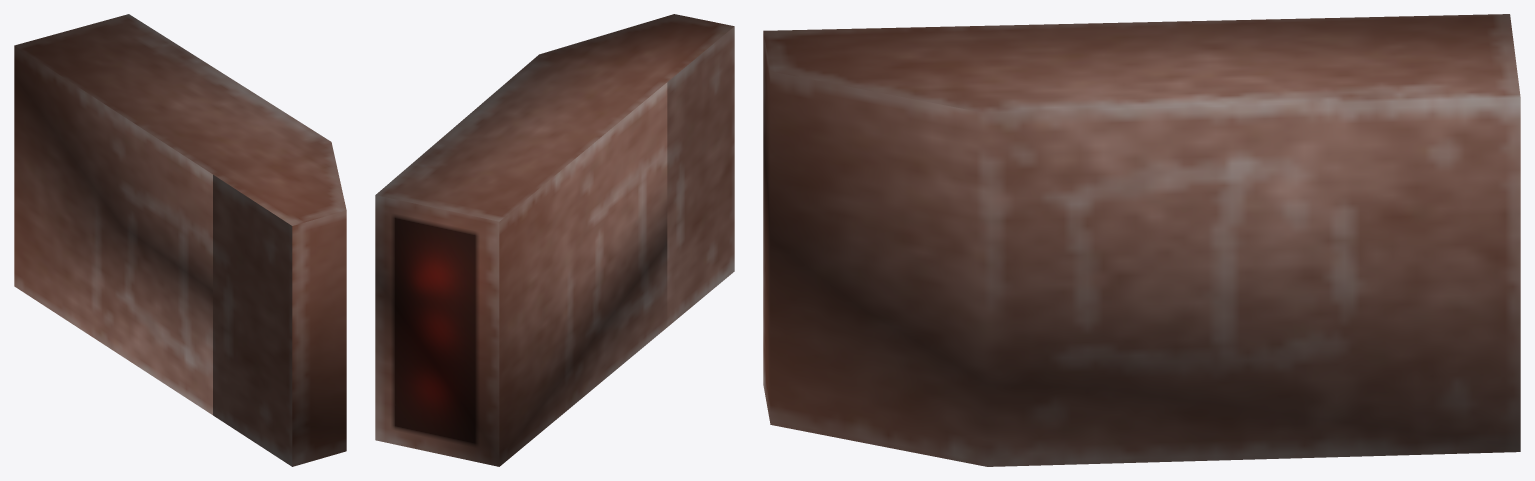
The model's file is MESH_PROPULSOR_PROP.fbx.
3 renders of one model, left to right at view 1: azimuth 30°, elevation 25°; view 2: azimuth 150°, elevation 25°; view 3: azimuth 270°, elevation 25°, orthographic. The views are drawn at different scales.
Parts seen in each view (by area): view 1: MESH_PROPULSOR_PROP; view 2: MESH_PROPULSOR_PROP; view 3: MESH_PROPULSOR_PROP.
Boxes of the visible parts, box(x1,y1,x2,y2) form: MESH_PROPULSOR_PROP: box(14, 14, 346, 466); MESH_PROPULSOR_PROP: box(375, 14, 734, 466); MESH_PROPULSOR_PROP: box(763, 14, 1520, 466).
Size of the model in its own units: 0.0779 by 0.1289 by 0.2505.
